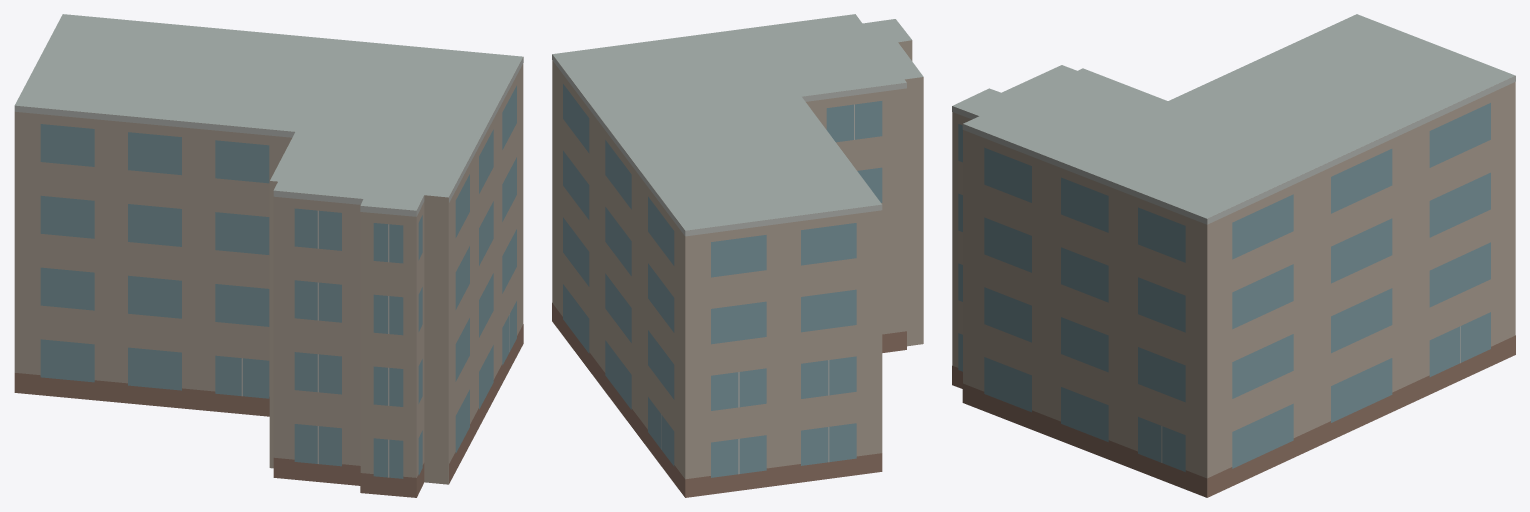
The model's file is survey-upis-32589335.glb.
The picture shows the model from 3 angles, left to right: view 1: azimuth 30°, elevation 25°; view 2: azimuth 150°, elevation 25°; view 3: azimuth 270°, elevation 25°; orthographic projection. The views are drawn at different scales.
Parts seen in each view (by area): view 1: survey-upis-32589335.tmp; view 2: survey-upis-32589335.tmp; view 3: survey-upis-32589335.tmp.
Boxes of the visible parts, x1,y1,x2,y2 form: survey-upis-32589335.tmp: (14, 14, 523, 497); survey-upis-32589335.tmp: (552, 14, 923, 497); survey-upis-32589335.tmp: (952, 14, 1515, 497).
Size of the model in its own units: 17.95 by 11.4 by 20.88.
